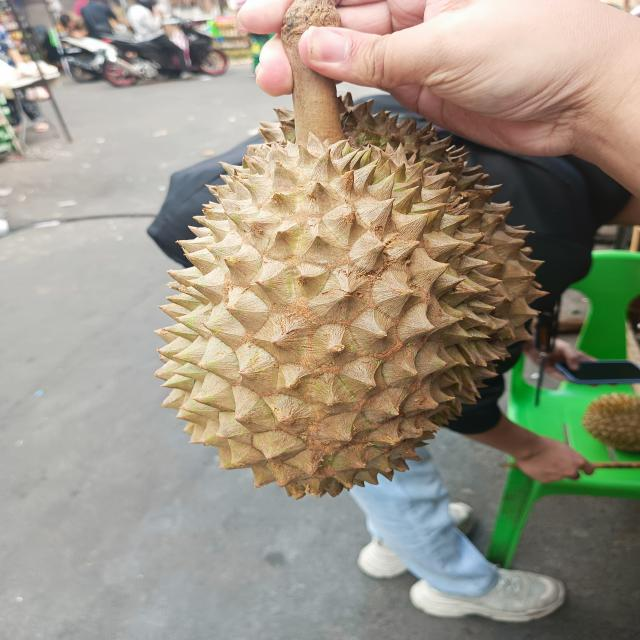mature: (155, 113, 540, 500)
